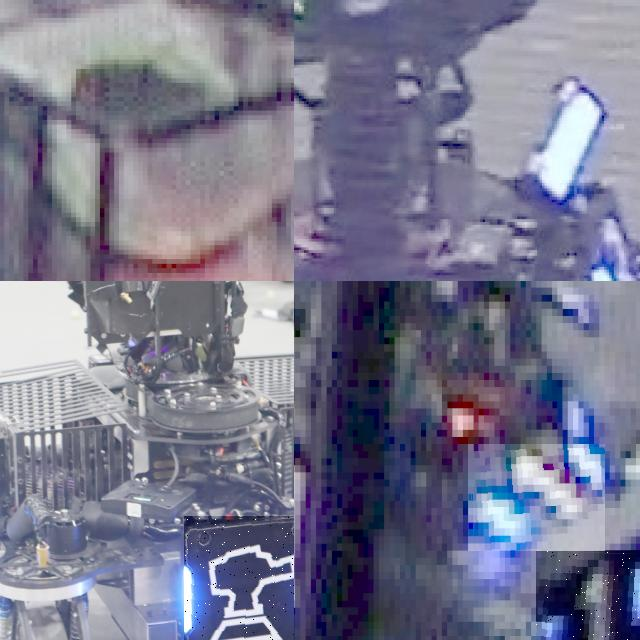B1: (468, 444, 605, 551), (536, 550, 640, 640)
Bs: (183, 516, 294, 640)
